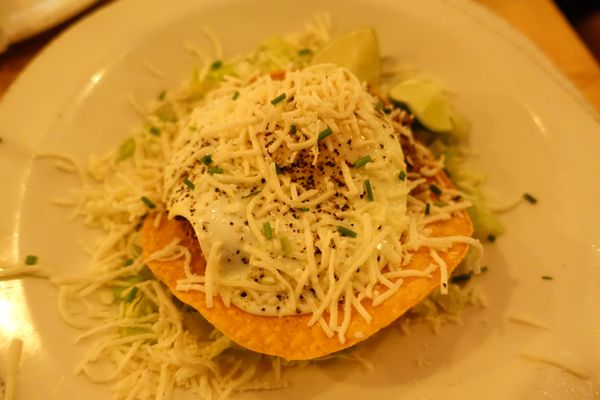sandwich: (16, 23, 491, 361)
